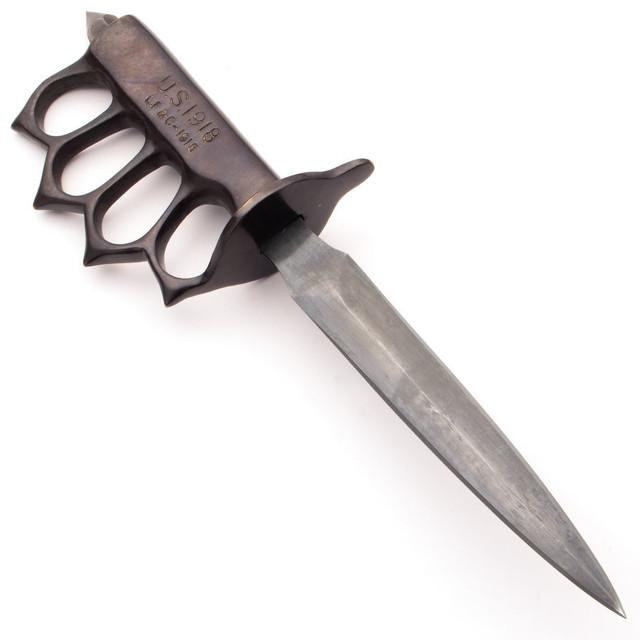Knife: (11, 7, 632, 623)
